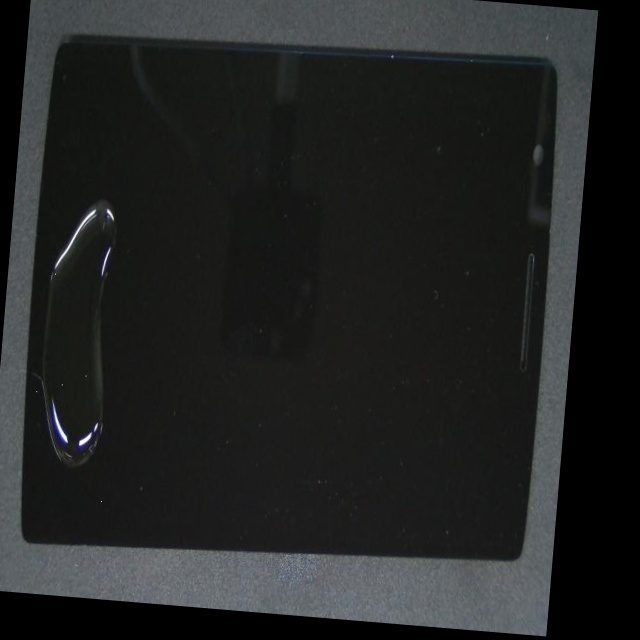oil: (64, 40, 121, 356)
